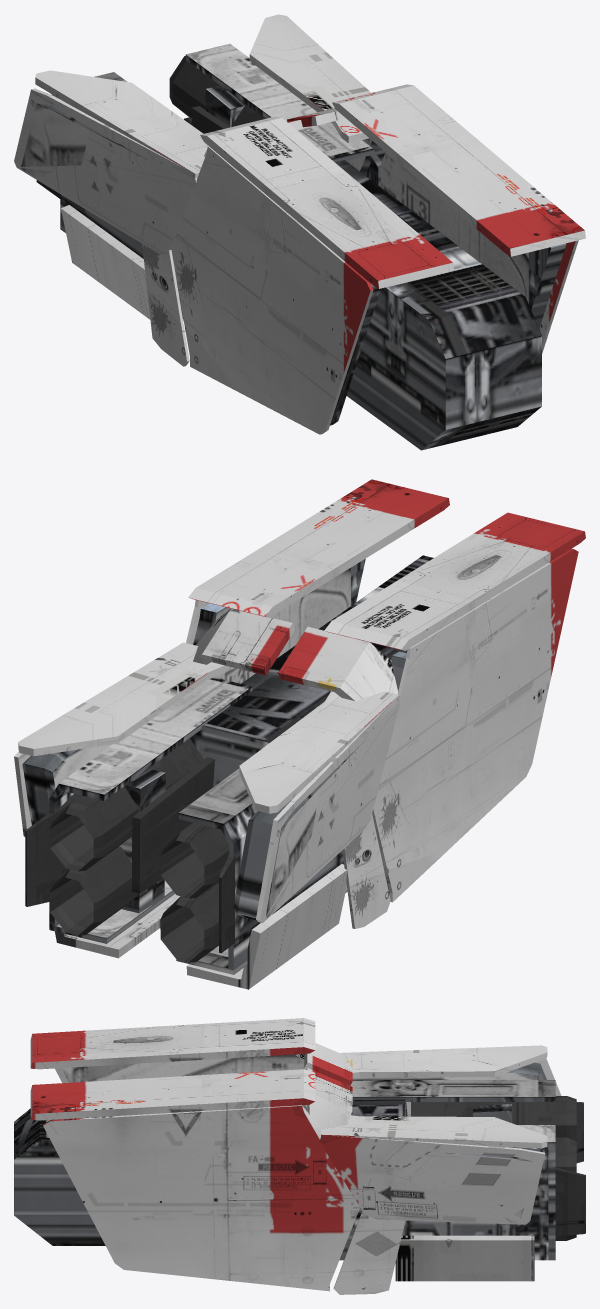
The model's file is engine03.FBX.
The picture shows the model from 3 angles, top to bottom: view 1: azimuth 30°, elevation 25°; view 2: azimuth 150°, elevation 25°; view 3: azimuth 270°, elevation 25°; orthographic projection. The views are drawn at different scales.
Visible parts, largest first — view 1: engine03; view 2: engine03; view 3: engine03.
Boxes of the visible parts, box(x1,y1,x2,y2) form: engine03: box(14, 14, 585, 450); engine03: box(14, 479, 585, 989); engine03: box(14, 1018, 585, 1294).
Size of the model in its own units: 235 by 217 by 574.
